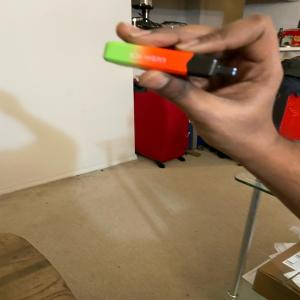Swift-E-Ciggirate: (101, 38, 245, 81)
